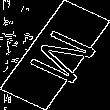M_SE: (13, 23, 97, 87)
